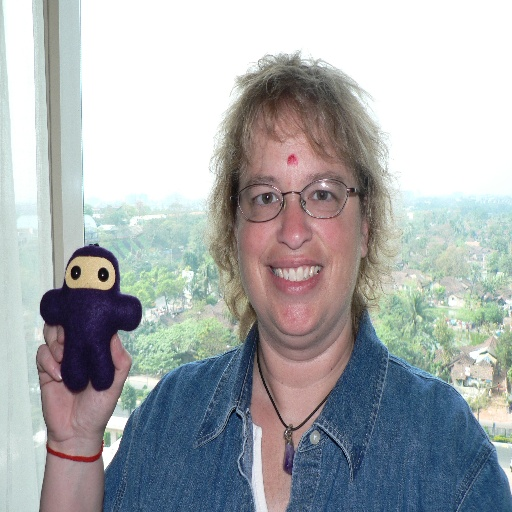hand: (35, 304, 161, 511)
